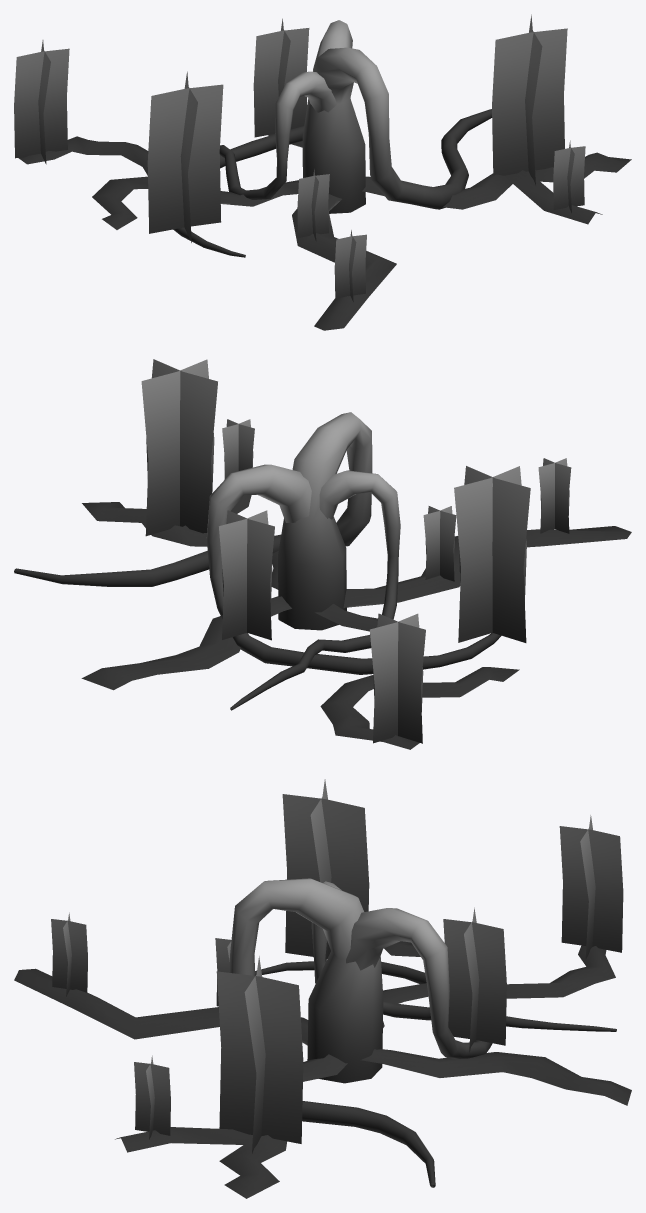
Rendered from CreeperGrown_MESH_01.fbx.
The picture shows the model from 3 angles, top to bottom: view 1: azimuth 30°, elevation 25°; view 2: azimuth 150°, elevation 25°; view 3: azimuth 270°, elevation 25°; orthographic projection. The views are drawn at different scales.
Visible parts, largest first — view 1: CreeperGrown_MESH_01; view 2: CreeperGrown_MESH_01; view 3: CreeperGrown_MESH_01.
Boxes of the visible parts, bbox=[...] form: CreeperGrown_MESH_01: bbox=[14, 14, 631, 330]; CreeperGrown_MESH_01: bbox=[14, 359, 631, 749]; CreeperGrown_MESH_01: bbox=[14, 779, 631, 1198].
Size of the model in its own units: 120 by 40.26 by 120.
